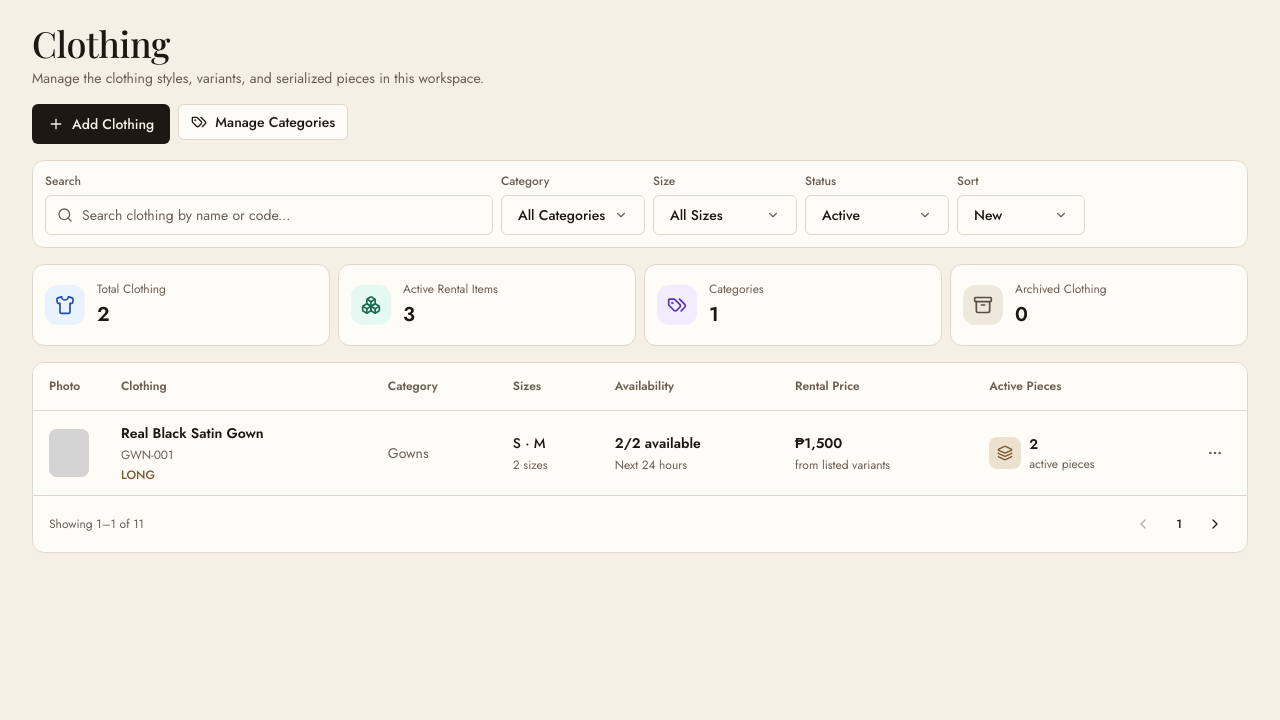
it: ClothingPage › resets cursor pagination when the server-side status filter changes
This screenshot has width=1280, height=720.
Click the button named "Next clothing page" at x=1215, y=524, box 1199,508 -> 1231,540
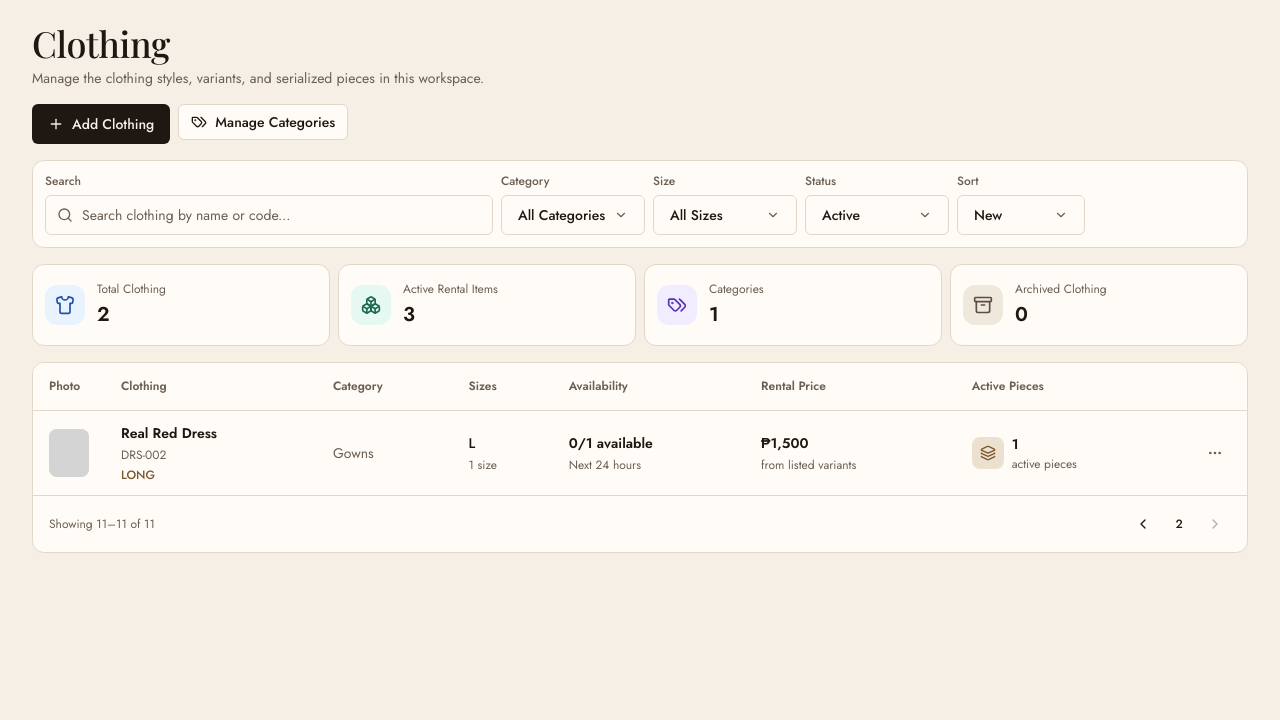
Press the mouse on the button named "Status Active" at x=877, y=215, box 805,195 -> 949,235
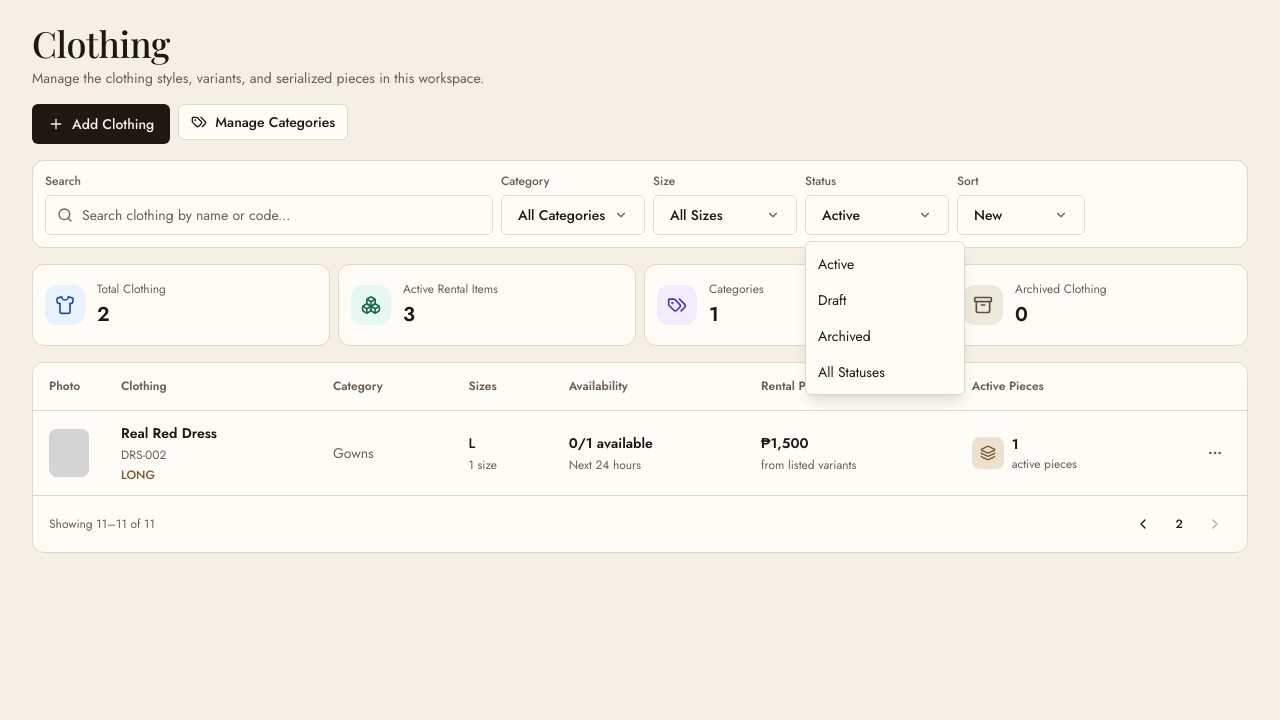
Click the menu item "Draft" at x=832, y=300, box 818,290 -> 846,310
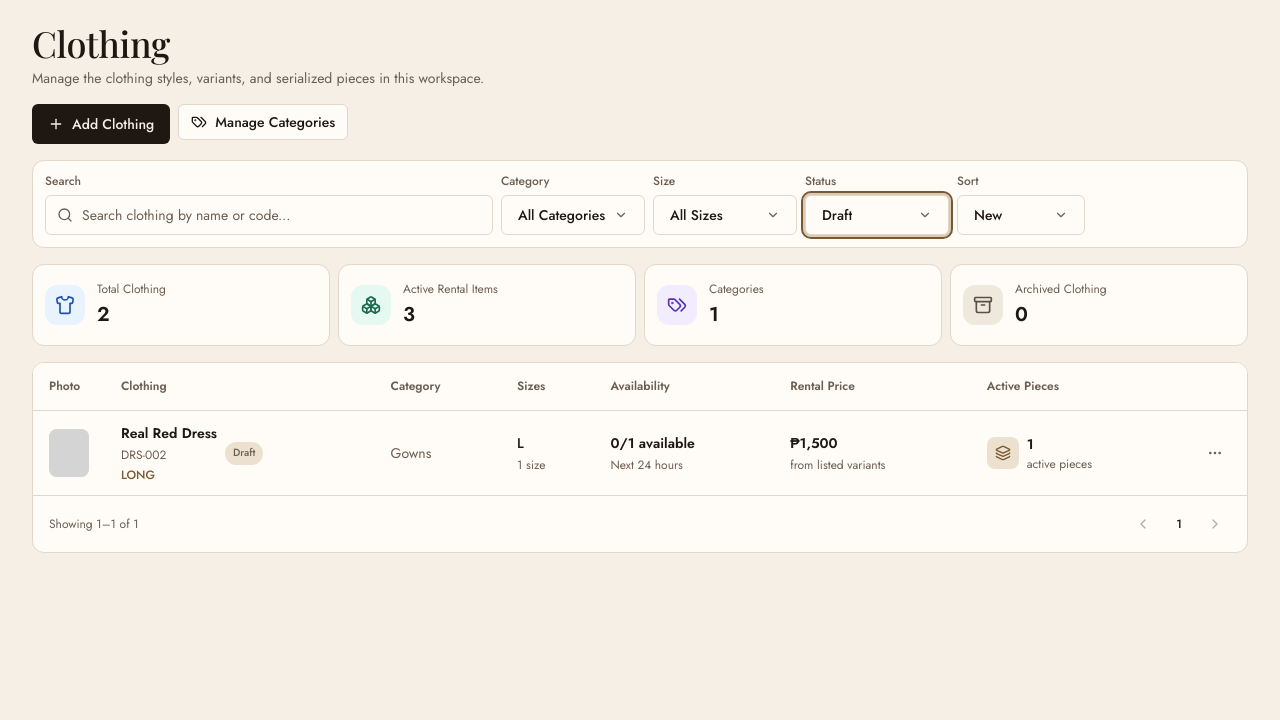
expect the text "Showing 1–1 of 1" is shown: met, box 49,516 -> 139,532
